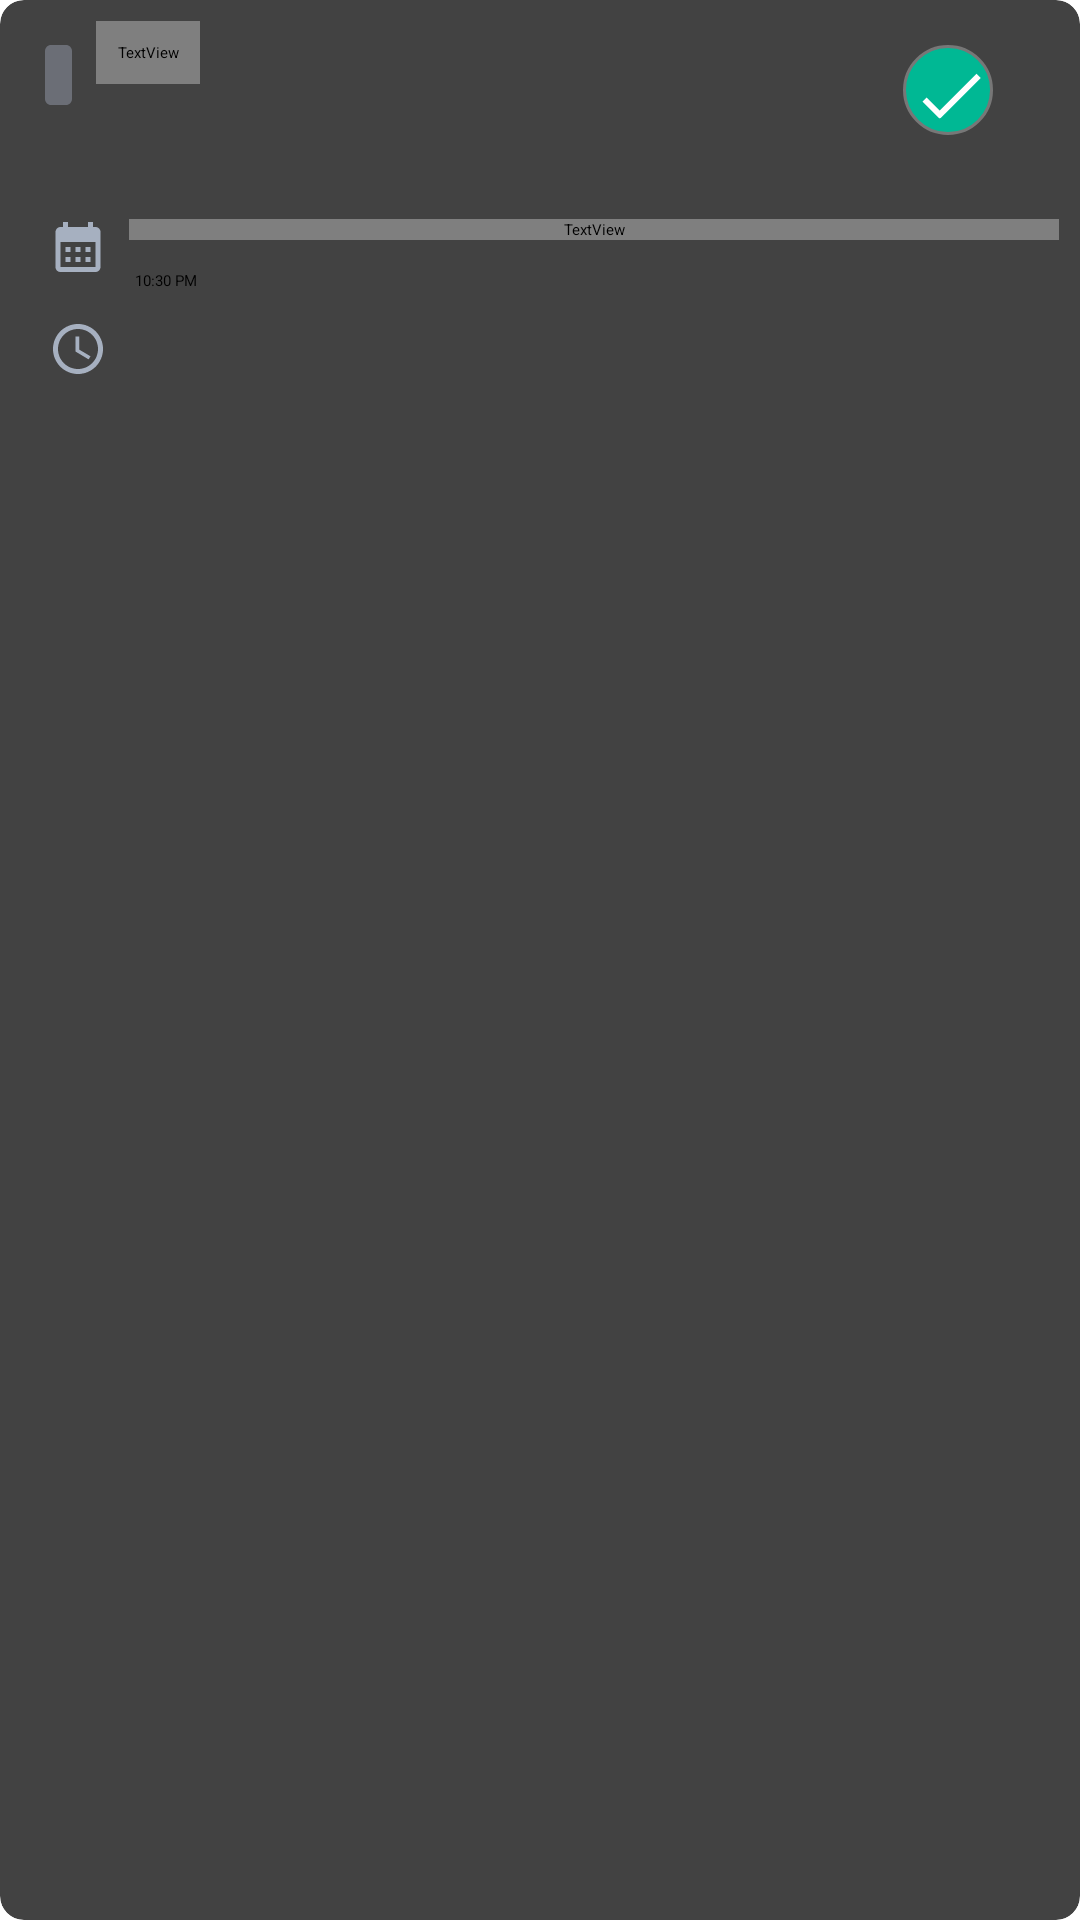

Where to tap for icons on this 1080w x 1920h app screen, as [x,y]:
access time: [78,349]
